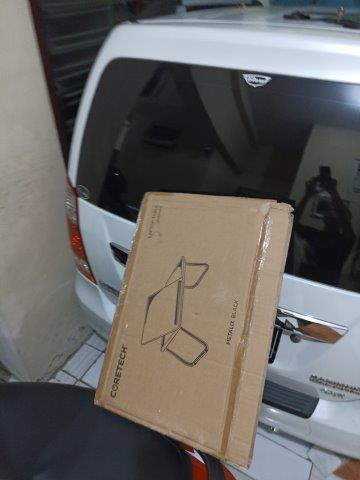kardus: (95, 193, 289, 465)
